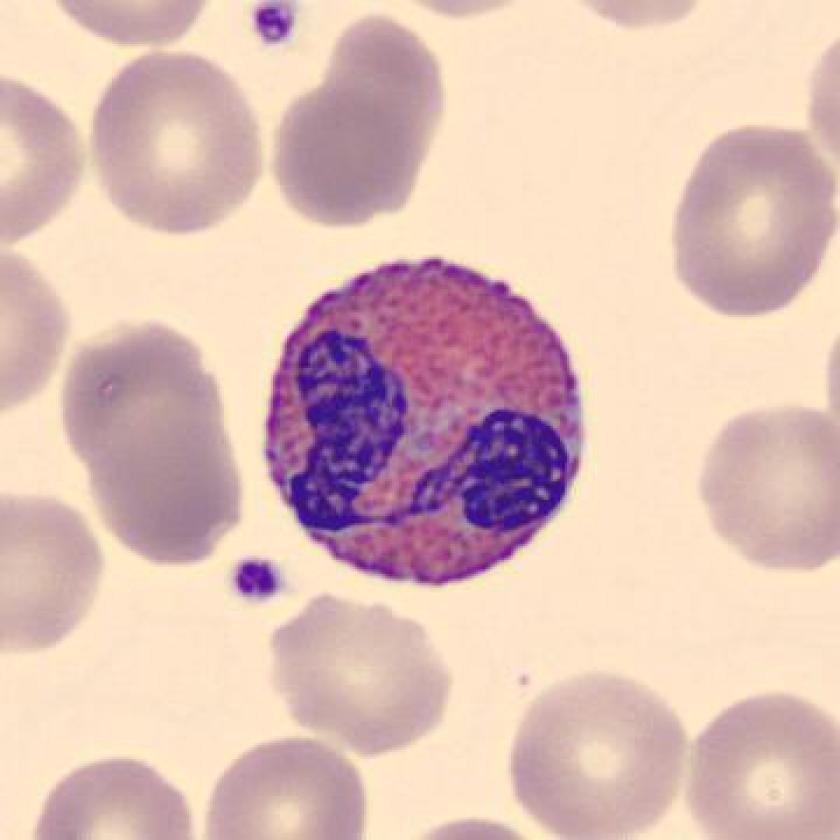eosinophil: (246, 249, 603, 598)
